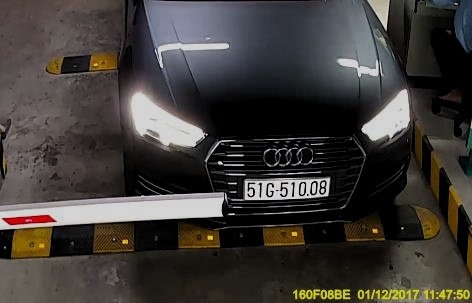plate: (238, 175, 335, 206)
